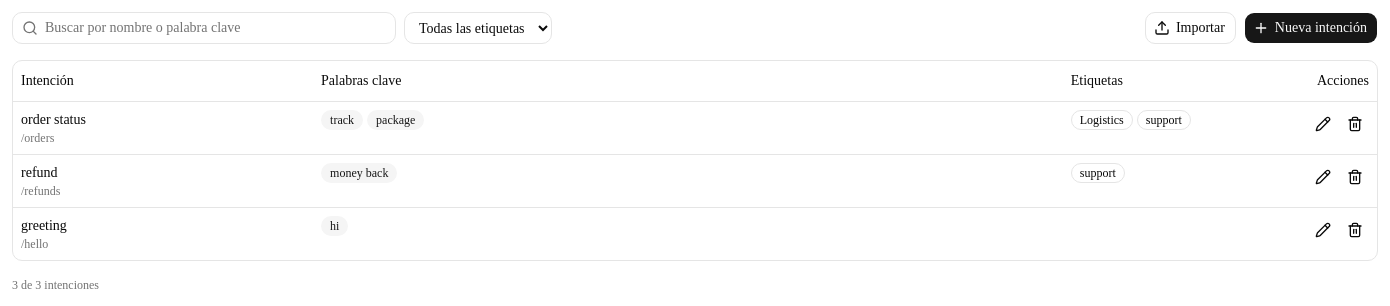
it: IntentsTable › filters rows by tag alongside the search
Select "support" in the dropdown named "filtrar por etiqueta" at (478, 28), box x1=404 y1=12 x2=552 y2=44
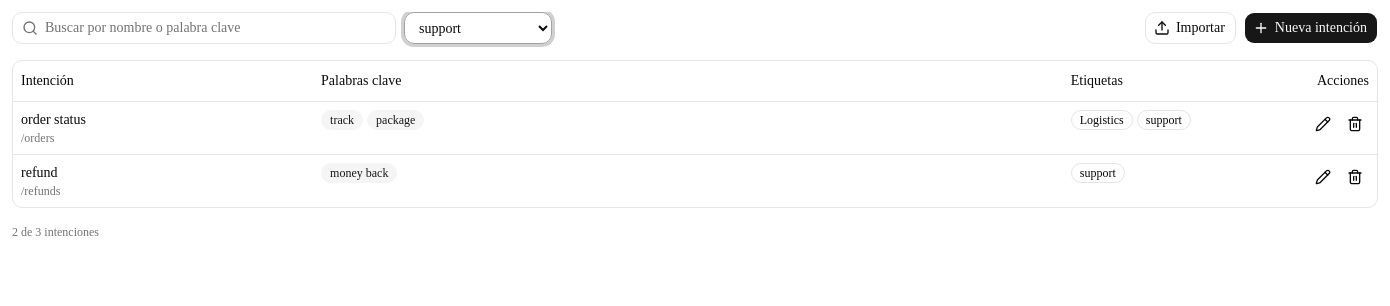
Expected: the text "order status" is shown, x1=21 y1=112 x2=86 y2=126
Expected: the text "greeting" is gone
Type "money" into the search field named "buscar intenciones".
click(204, 28); type("money")  # box x1=12 y1=12 x2=396 y2=44
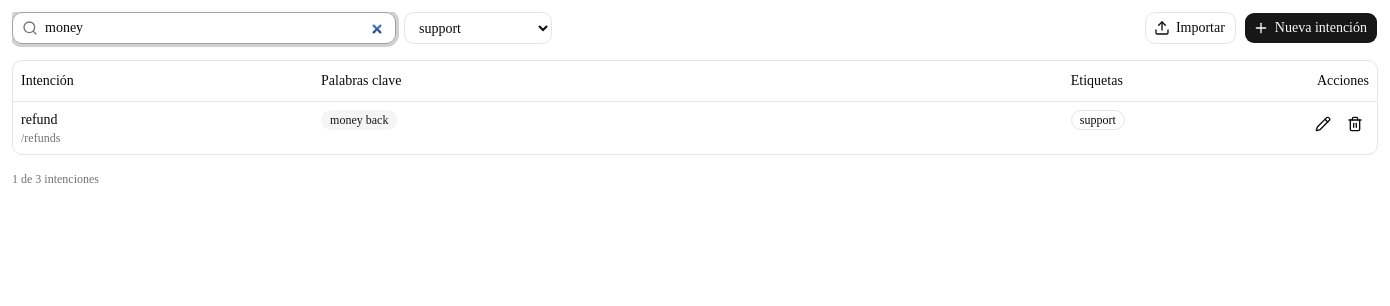
Expected: the text "refund" is shown, x1=21 y1=112 x2=58 y2=126
Expected: the text "order status" is gone
